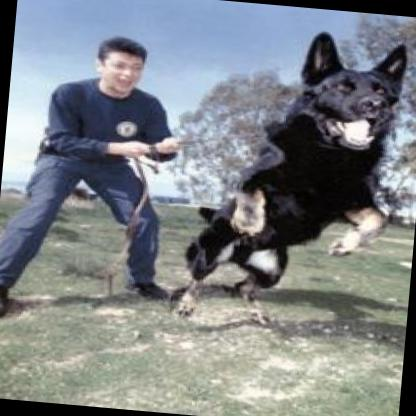German_shepherd: (173, 18, 410, 332)
